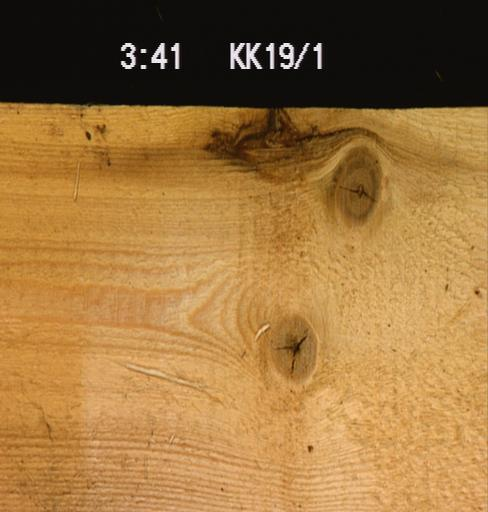sound_knot: (327, 144, 385, 230), (263, 309, 320, 384)
